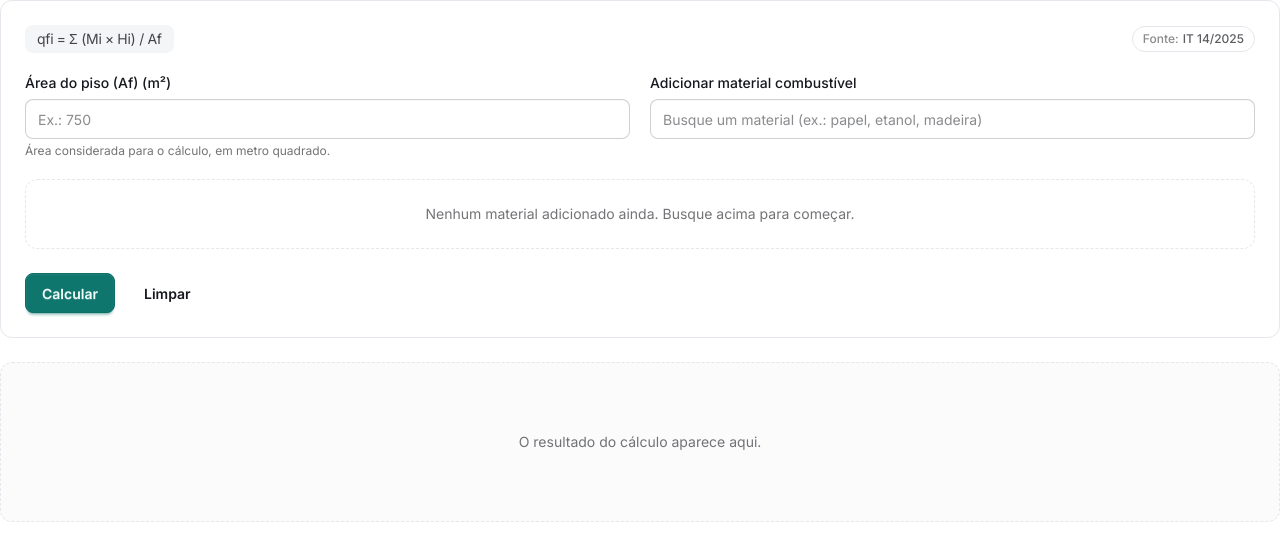
Test: SpecificLoadCalculator › should show an error when the area is missing
Type "papel" into the search field labelled "Adicionar material combustível" at (952, 119), box [650,99,1255,139]
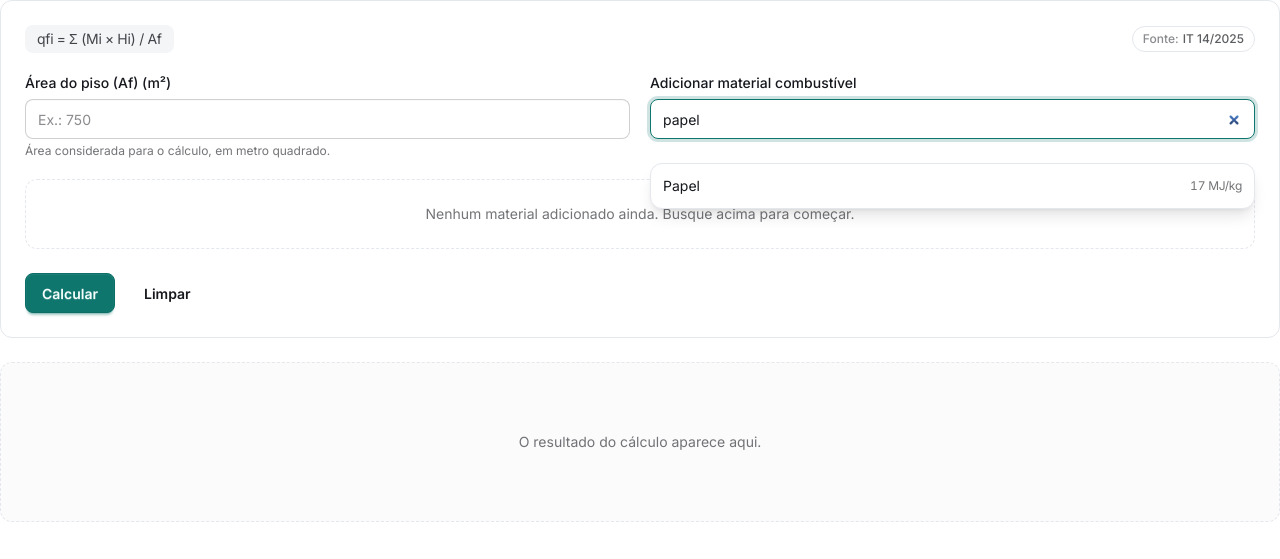
Click the button "Papel 17 MJ/kg" at (681, 186), box [651,164,1254,208]
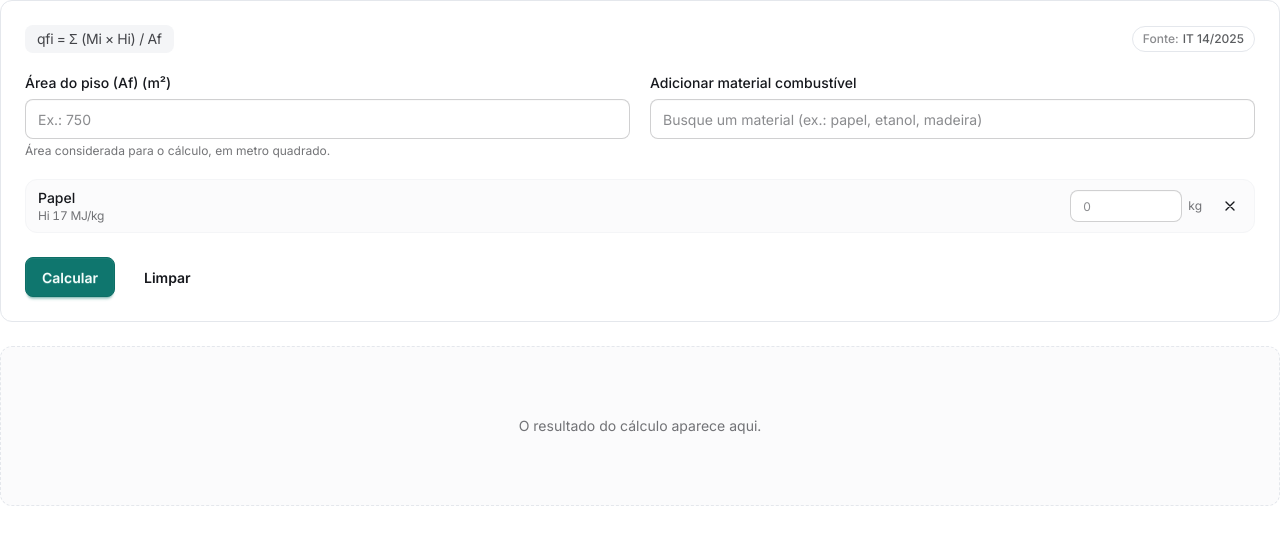
Type "1000" into the field named "Massa" at (1126, 206), box [1070,190,1182,222]
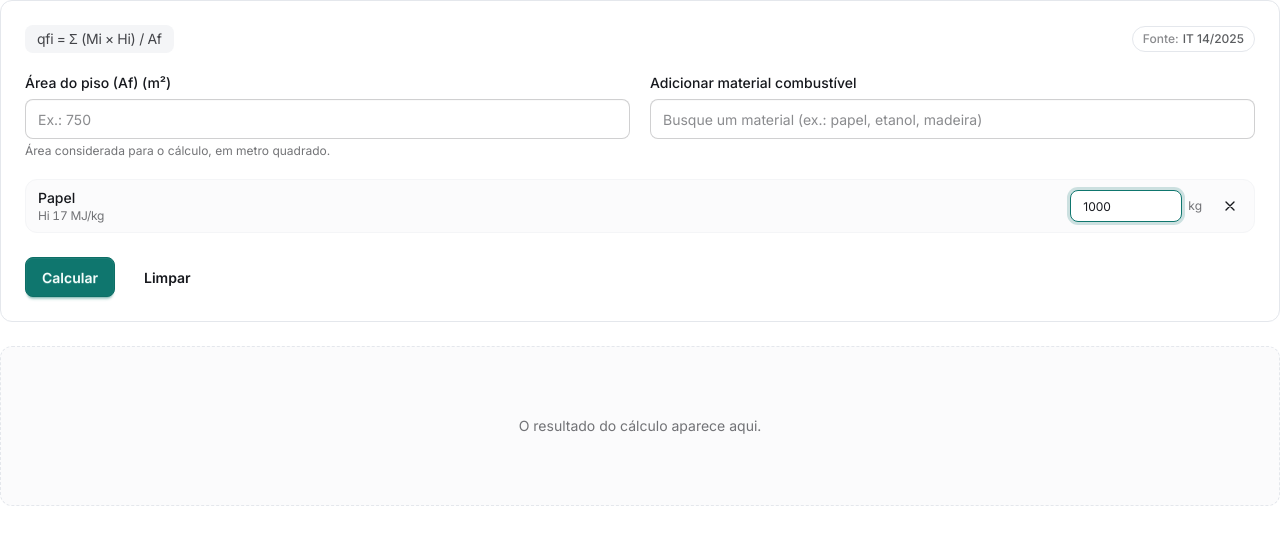
Click the button "Calcular" at (70, 277), box [25,257,115,297]
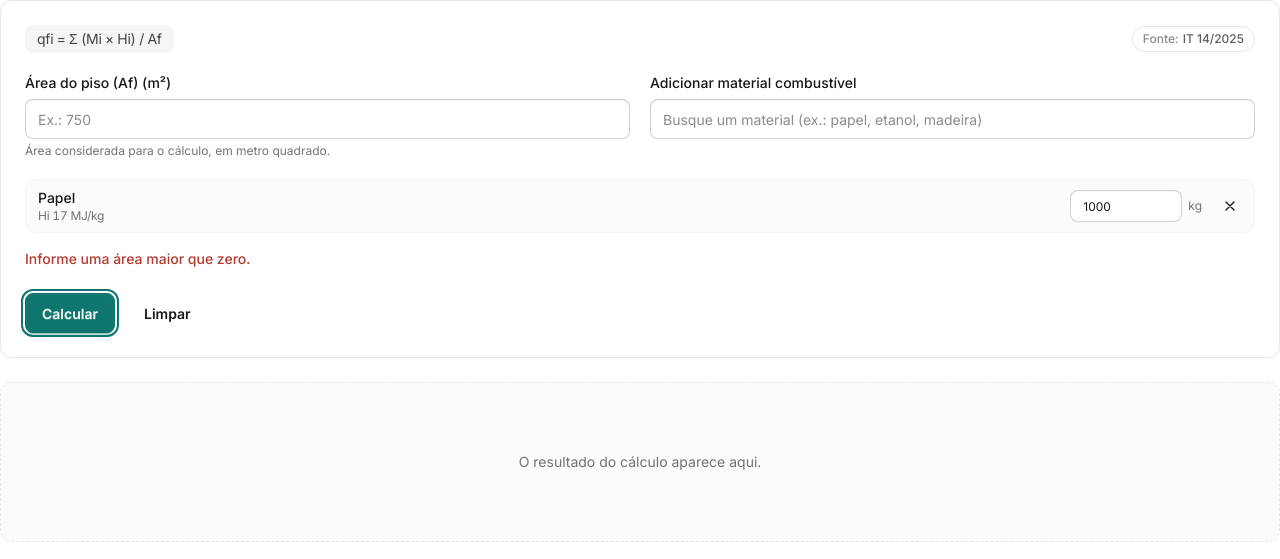
Check: the text "Informe uma área maior que zero." is shown, box [25,250,250,267]
